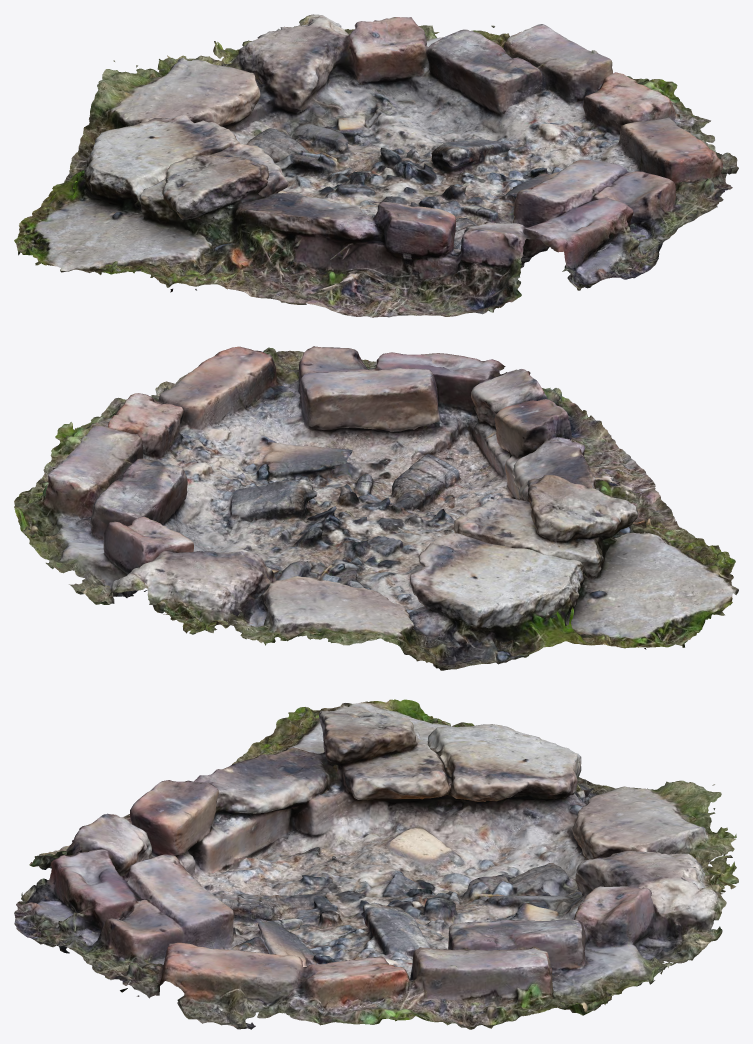
Rendered from firepit.glb.
The picture shows the model from 3 angles, top to bottom: view 1: azimuth 30°, elevation 25°; view 2: azimuth 150°, elevation 25°; view 3: azimuth 270°, elevation 25°; orthographic projection. The views are drawn at different scales.
Visible parts, largest first — view 1: Model; view 2: Model; view 3: Model.
Boxes of the visible parts, x1,y1,x2,y2 form: Model: (14, 14, 738, 317); Model: (14, 346, 738, 670); Model: (14, 699, 738, 1029).
Bounding box in the file's own units: 2.09 × 0.2776 × 1.88.
Materials: 1 (1 with a texture image).
